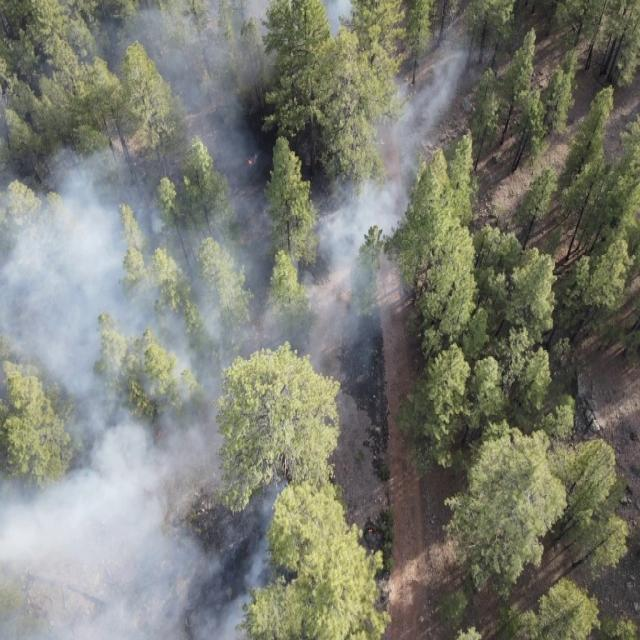fire: (364, 525, 376, 537), (155, 428, 165, 441), (246, 157, 254, 167)
smoke: (0, 0, 498, 310), (0, 305, 381, 639)
